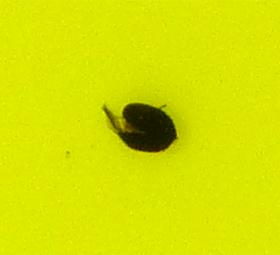Coleoptera: (100, 100, 180, 155)
